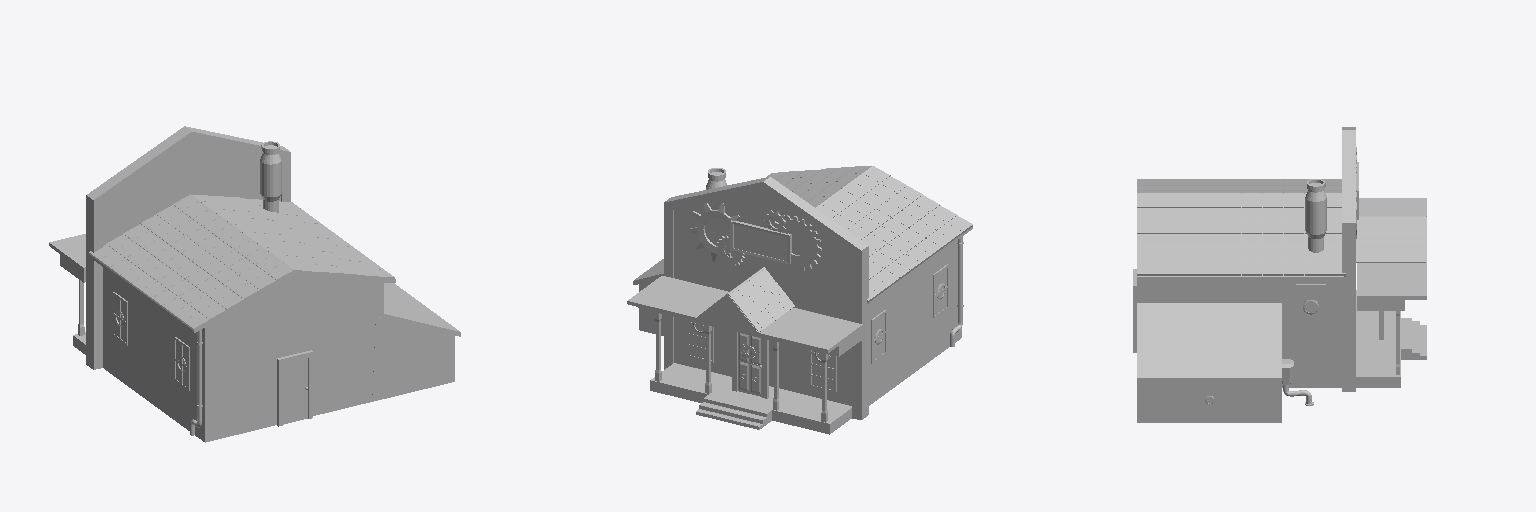
Rendered from Wild West Store.obj.
3 renders of one model, left to right at view 1: azimuth 30°, elevation 25°; view 2: azimuth 150°, elevation 25°; view 3: azimuth 270°, elevation 25°, orthographic.
Parts seen in each view (by area): view 1: pCube123; view 2: pCube123; view 3: pCube123.
Boxes of the visible parts, x1,y1,x2,y2 form: pCube123: [49, 126, 460, 442]; pCube123: [627, 166, 972, 434]; pCube123: [1133, 127, 1426, 422].
Size of the model in its own units: 14.94 by 11.74 by 14.26.